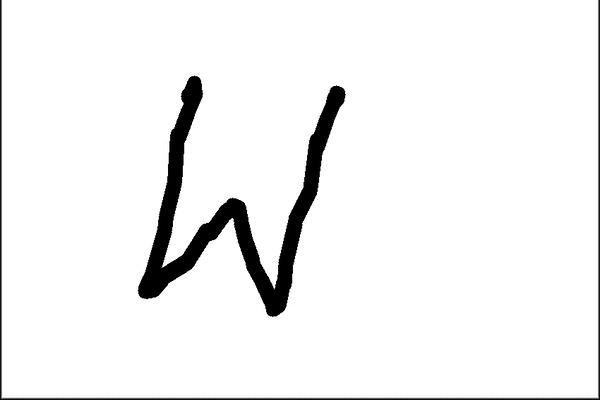w: (116, 58, 355, 340)
